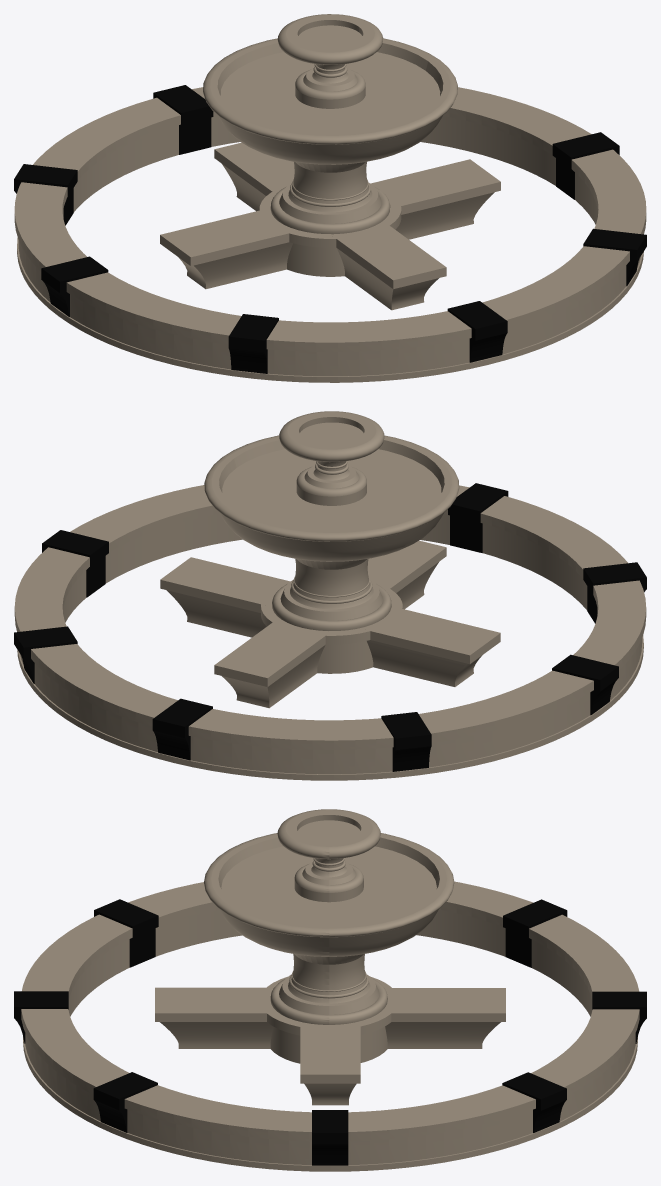
File: fountain.fbx
3 views of the same model, one above another, from view 1: azimuth 30°, elevation 25°; view 2: azimuth 150°, elevation 25°; view 3: azimuth 270°, elevation 25° (orthographic).
Parts seen in each view (by area): view 1: fountain; view 2: fountain; view 3: fountain.
Boxes of the visible parts, x1,y1,x2,y2 form: fountain: [14, 14, 646, 382]; fountain: [14, 411, 646, 780]; fountain: [14, 809, 646, 1171].
Bounding box in the file's own units: 12.06 × 4.48 × 12.06.
